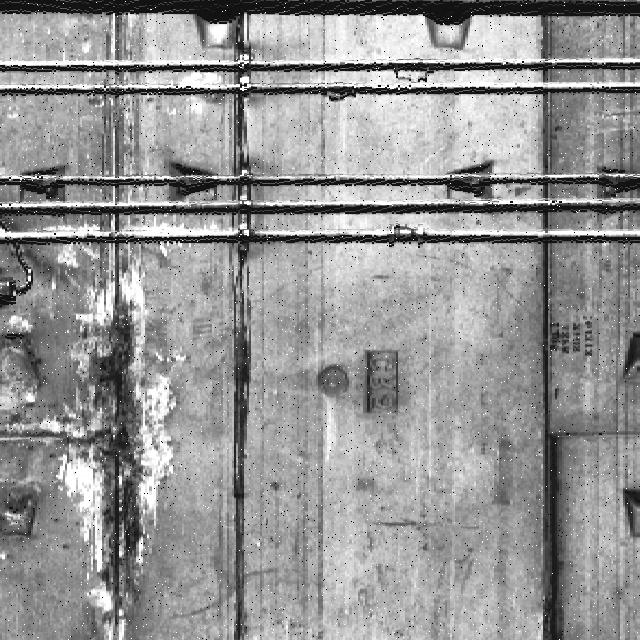leakage: (44, 255, 181, 640), (222, 1, 260, 636)
